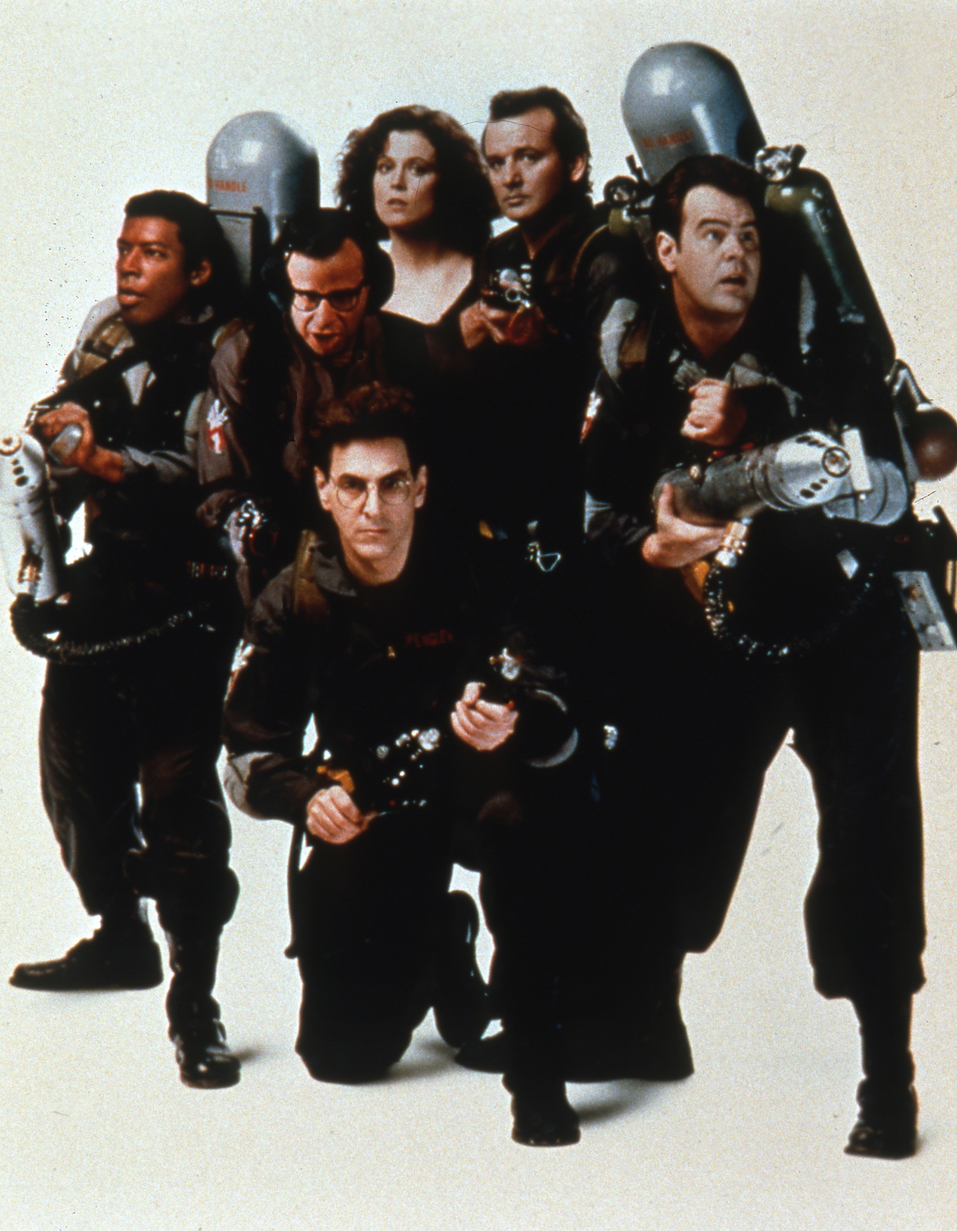27: (664, 168, 776, 332), (469, 96, 576, 236)
28: (99, 193, 198, 339)
31: (318, 418, 426, 579), (361, 118, 451, 239)
33: (274, 231, 379, 376)
Boots: (549, 955, 717, 1093), (829, 1002, 934, 1193), (430, 865, 517, 1093), (139, 967, 248, 1112), (491, 1028, 594, 1153), (4, 927, 165, 1004)
Dress: (318, 236, 540, 509)
Female: (361, 118, 451, 239)
Glasses: (313, 460, 436, 524), (278, 269, 380, 325)
Gun: (615, 438, 893, 615), (1, 393, 97, 663), (457, 252, 563, 344)
Jump suit: (570, 296, 946, 1018), (231, 549, 610, 1093), (25, 298, 278, 1013), (406, 215, 644, 491)
Male: (664, 168, 776, 332), (318, 418, 426, 579), (274, 231, 379, 376), (469, 96, 576, 236), (99, 193, 198, 339)
